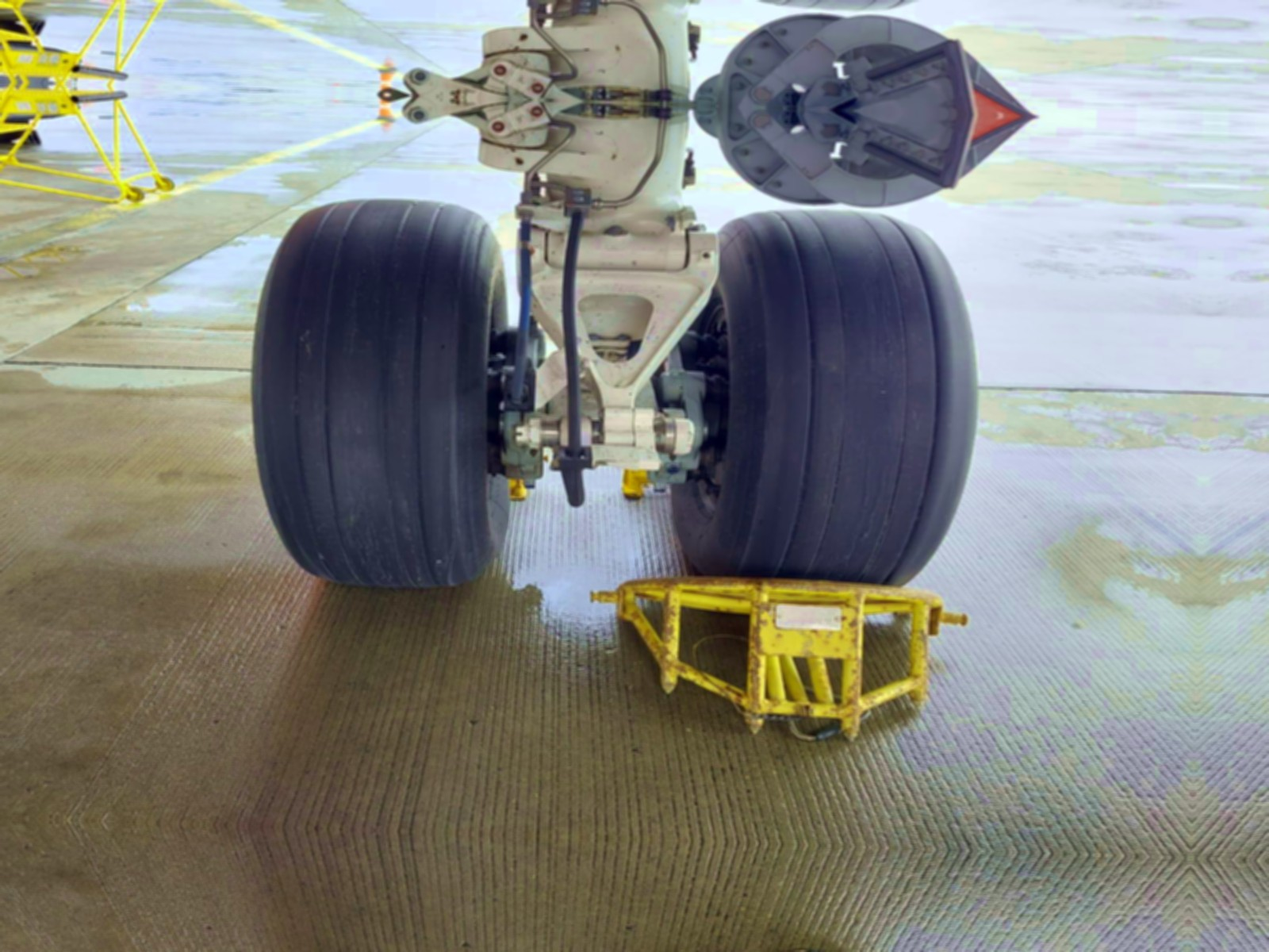chock: (581, 568, 969, 748)
wheel: (672, 204, 982, 584), (237, 190, 523, 600)
